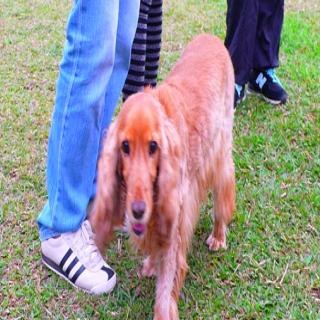dog: (93, 91, 168, 267)
nose: (128, 199, 150, 219)
